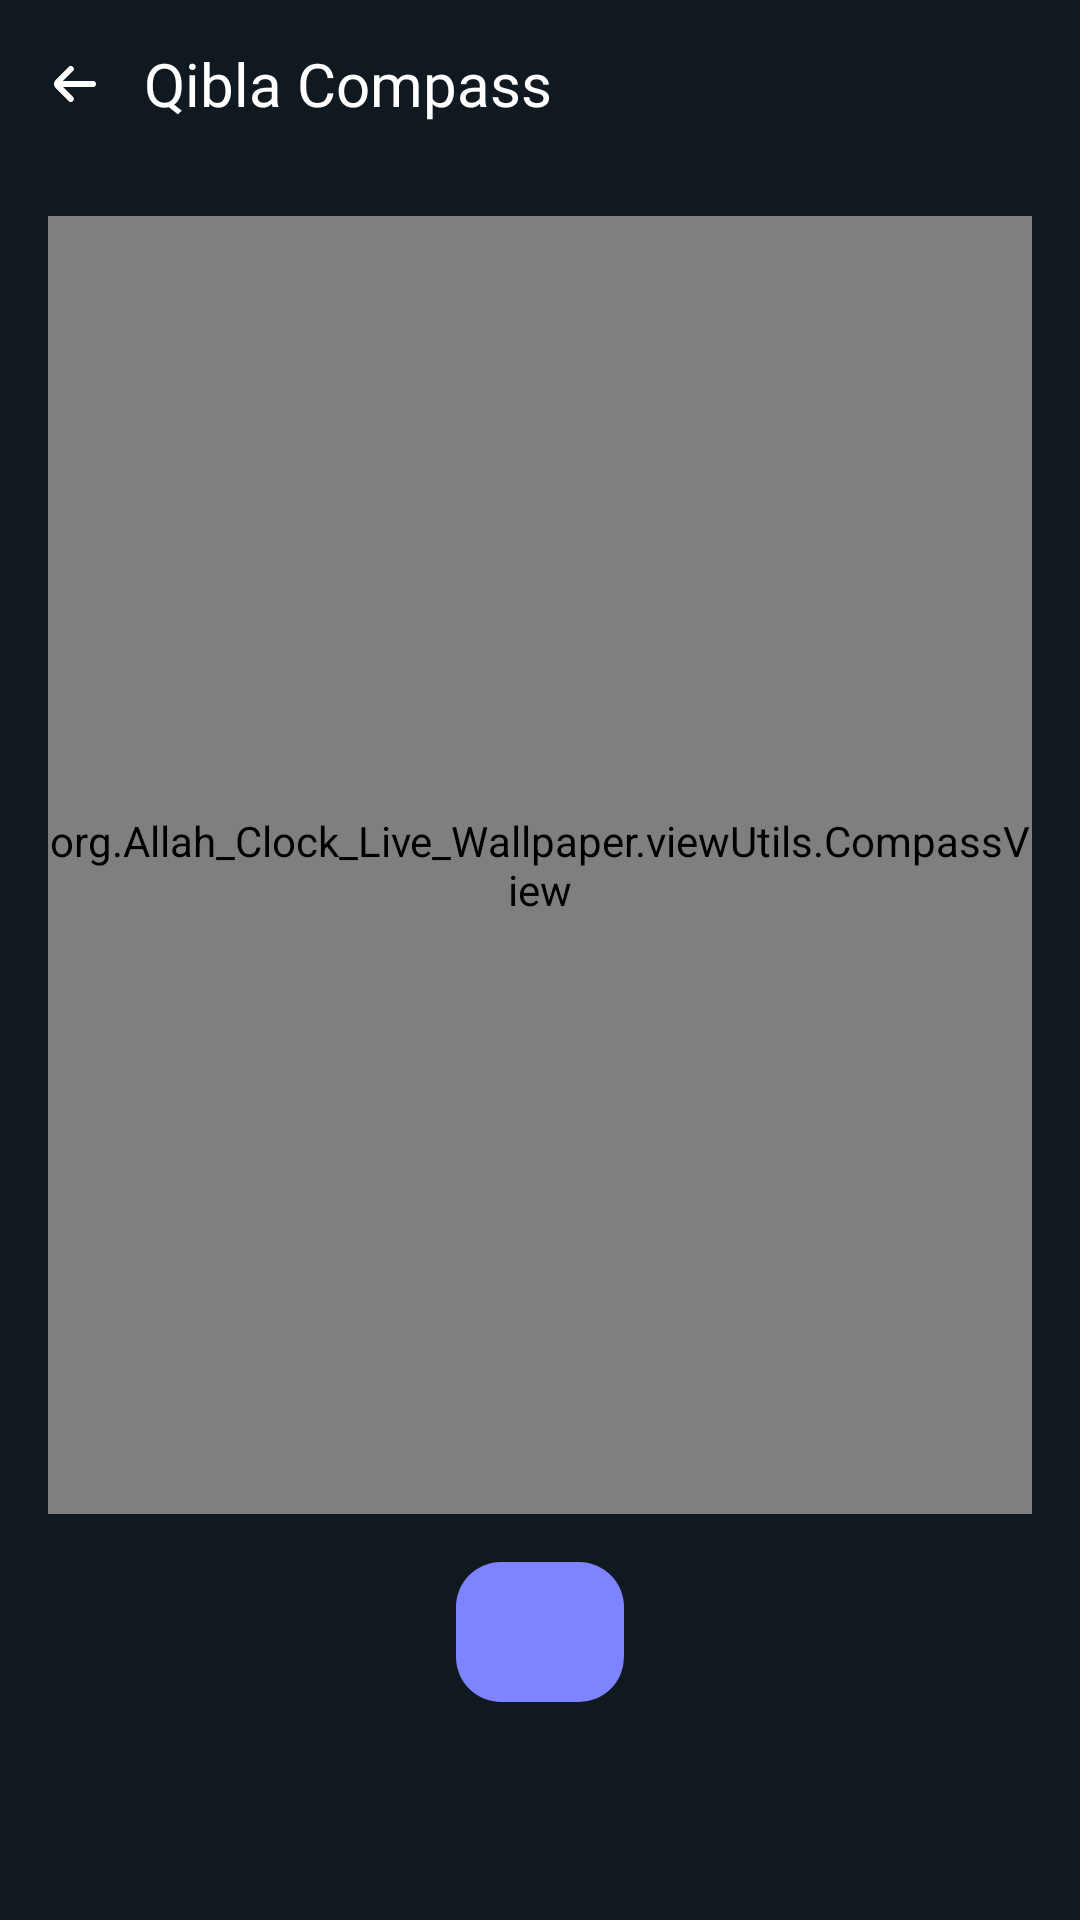

Icon click points for this 1080w x 1920h phone screenshot, format [x,y]:
Back: [75,83]
